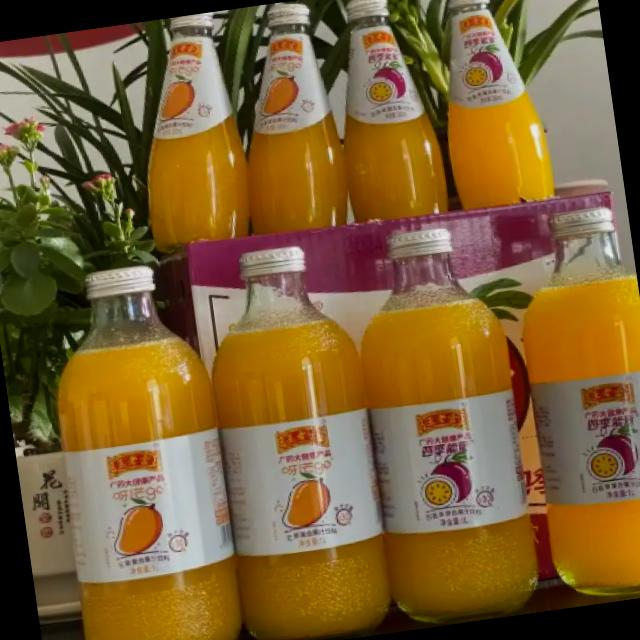bottle: (340, 213, 548, 632), (194, 241, 404, 640), (36, 261, 252, 640), (503, 203, 640, 607), (120, 11, 255, 252), (228, 0, 352, 234), (324, 0, 451, 223), (427, 0, 556, 211)
